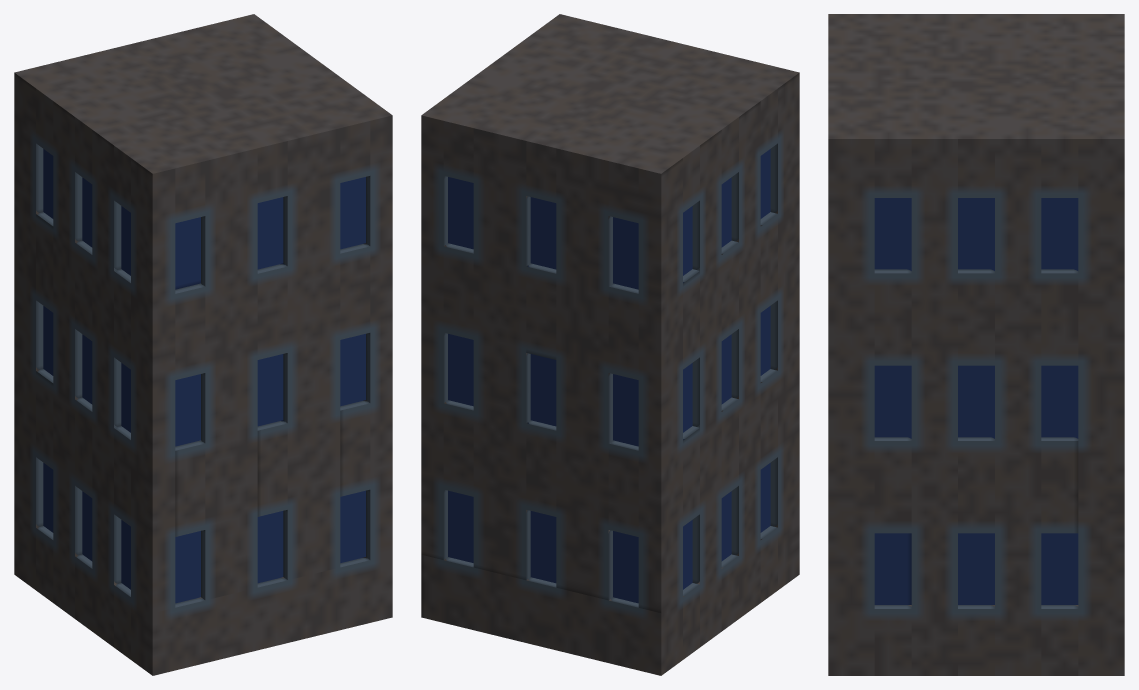
The model's file is b_dzielnia_uni5_4.dae.
3 views of the same model, side by side, from view 1: azimuth 30°, elevation 25°; view 2: azimuth 150°, elevation 25°; view 3: azimuth 270°, elevation 25° (orthographic). The views are drawn at different scales.
Parts seen in each view (by area): view 1: Content; view 2: Content; view 3: Content.
Part boxes in pixels (x1,y1,x2,y2): Content: [14, 14, 392, 675]; Content: [421, 14, 799, 675]; Content: [828, 14, 1124, 675].
Bounding box in the file's own units: 32 × 64 × 32.
Materials: 1 (1 with a texture image).
